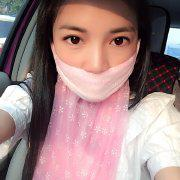WRONG: (52, 4, 139, 103)
